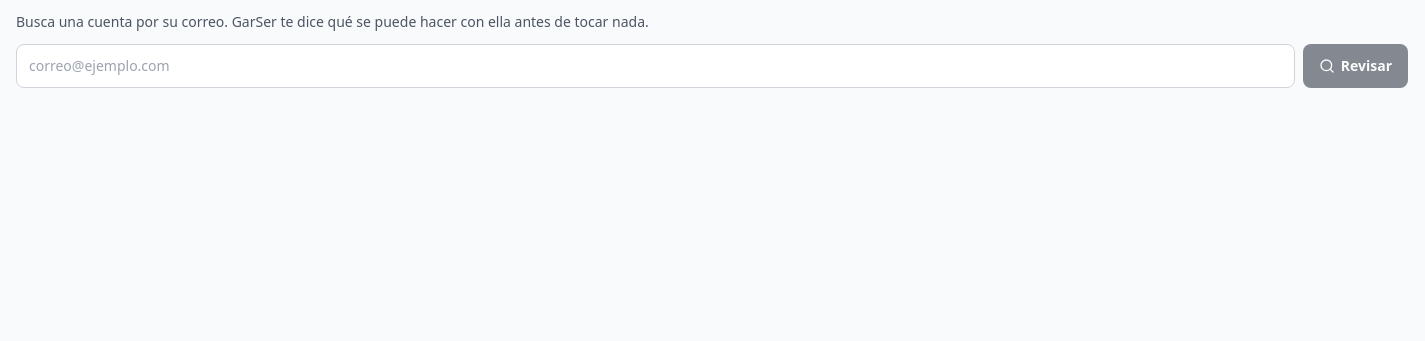
Test: Dar de baja o suspender una cuenta (F6) › bloqueada: explica por qué y no ofrece borrar ni dar de baja
Type "e@x.es" into the field named "Correo de la cuenta" at (655, 66), box 16,44 -> 1295,88
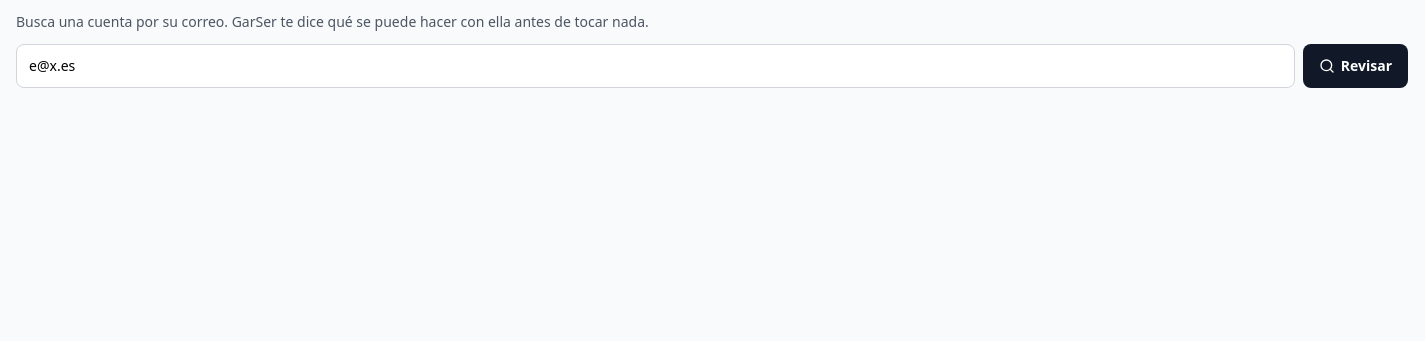
Click the button "Revisar" at (1355, 66), box 1303,44 -> 1408,88
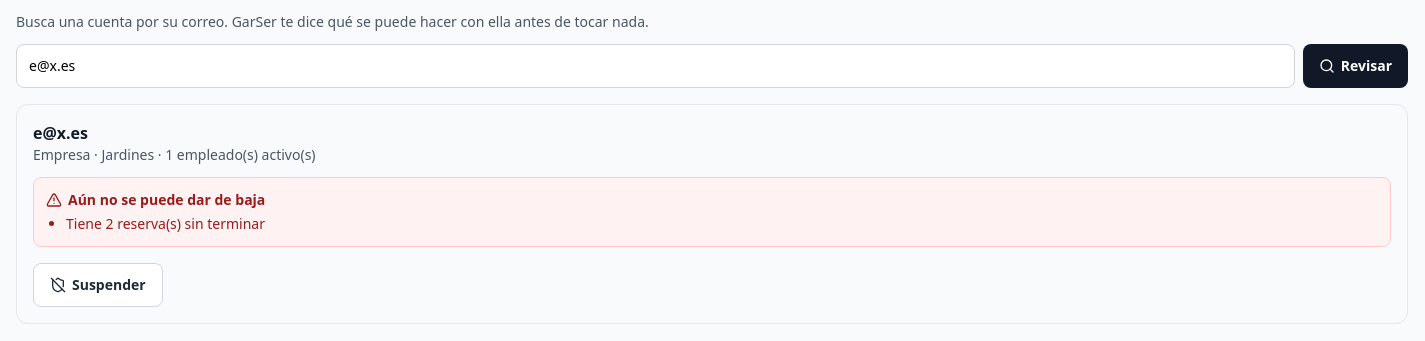
Expected: the text "Aún no se puede dar de baja" is shown, 46,190 -> 265,209
Expected: the list item "Tiene 2 reserva(s) sin terminar" is shown, 66,214 -> 265,233
Expected: the button "Suspender" is shown, 33,263 -> 163,307
